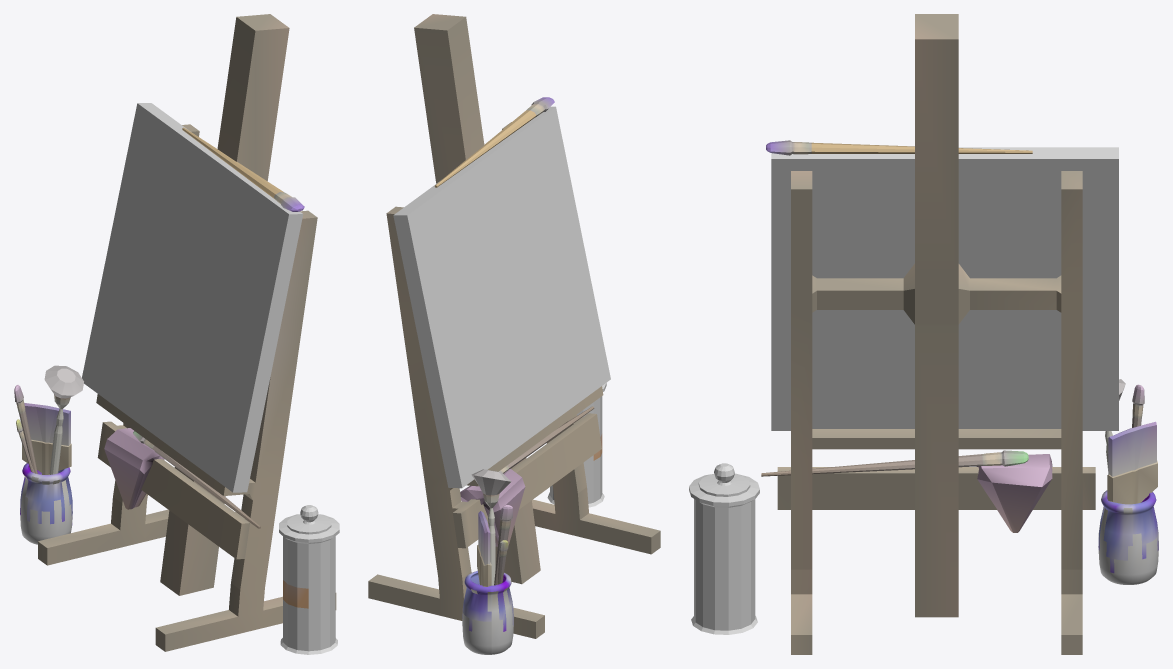
Rendered from atelier-easel.glb.
3 renders of one model, left to right at view 1: azimuth 30°, elevation 25°; view 2: azimuth 150°, elevation 25°; view 3: azimuth 270°, elevation 25°, orthographic. The views are drawn at different scales.
Parts seen in each view (by area): view 1: Cube.001; view 2: Cube.001; view 3: Cube.001.
Boxes of the visible parts, left/top/right/bottom form: Cube.001: left=14, top=14, right=339, bottom=654; Cube.001: left=368, top=14, right=660, bottom=654; Cube.001: left=689, top=14, right=1158, bottom=654.
Bounding box in the file's own units: 4.27 × 12.52 × 8.5.
